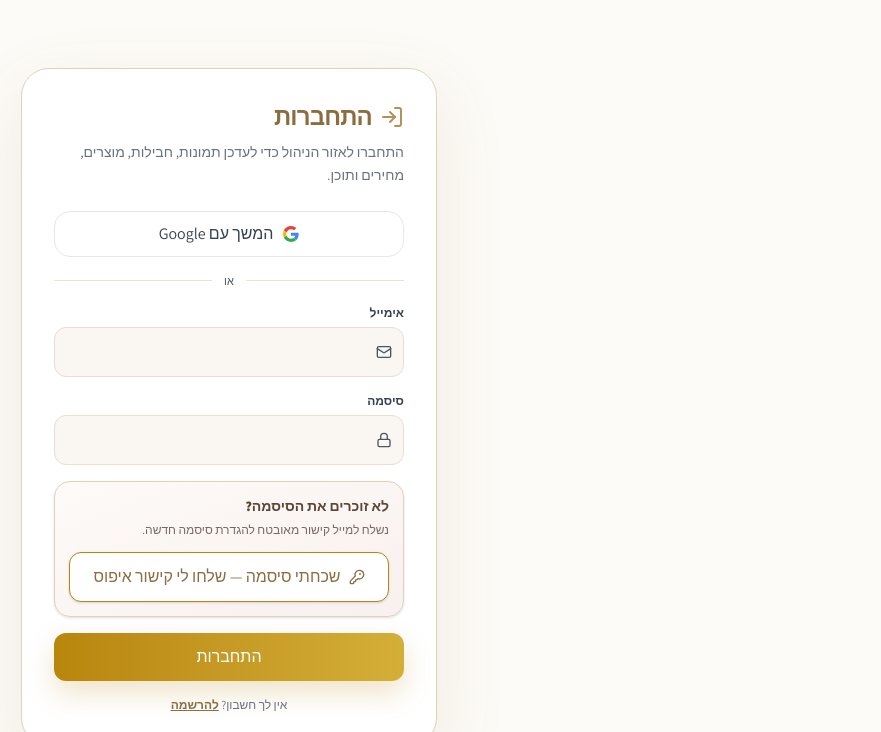
Test: LoginPage › uses a safe query return path from a direct login URL
Type "a@b.com" into the field labelled "אימייל".
click(229, 352); type("a@b.com")  # box [54,327,404,377]
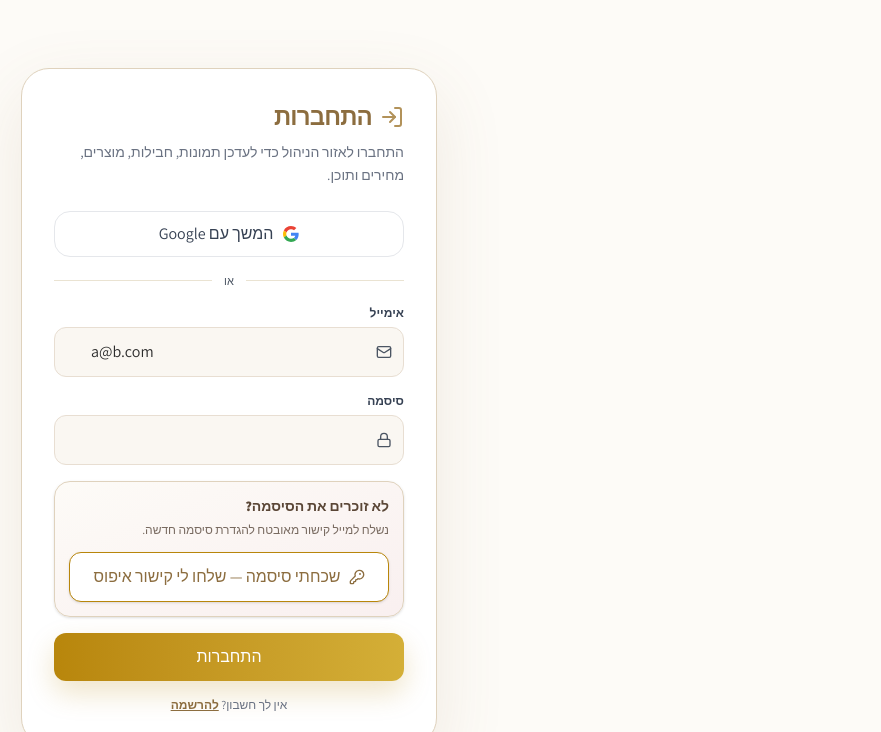
Type "secret" into the password field labelled "סיסמה".
click(229, 440); type("secret")  # box [54,415,404,465]
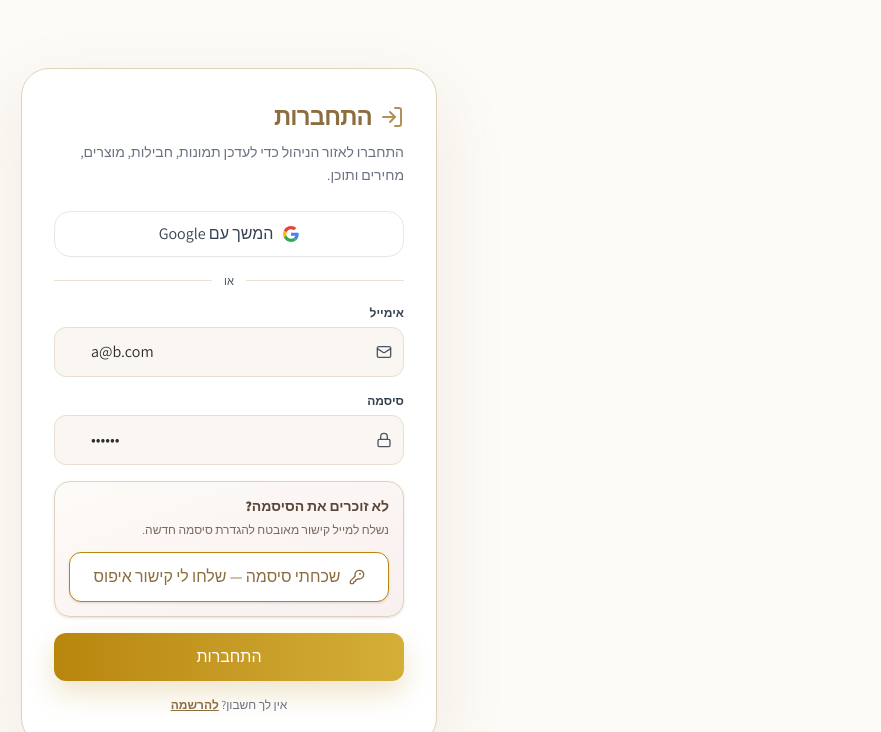
Click the button "התחברות".
click(229, 656)  # box [54,632,404,680]
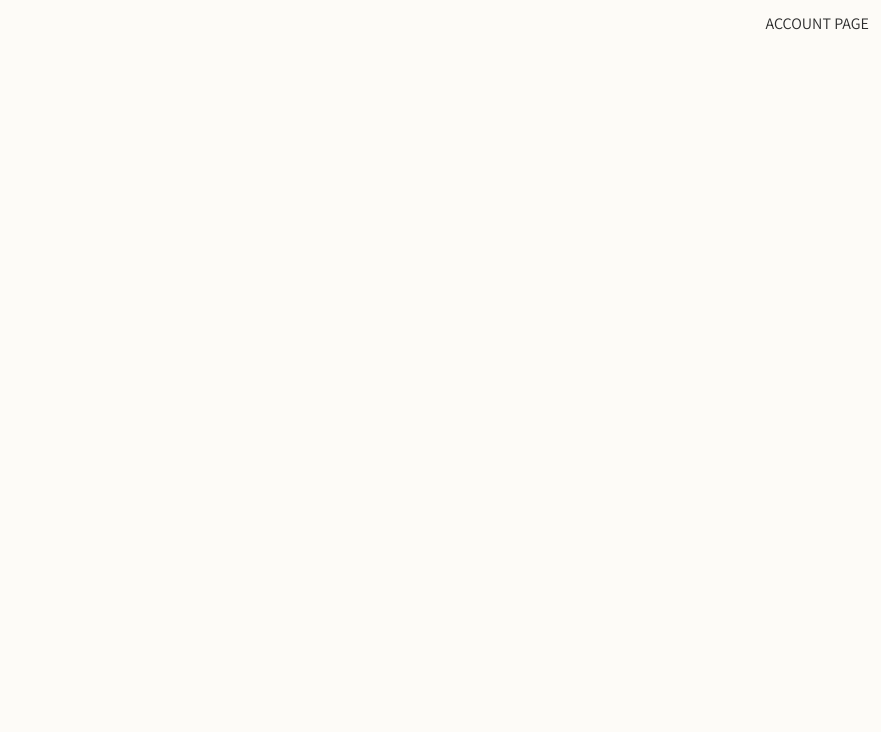
Now the text "ACCOUNT PAGE" is shown, box [765,13,869,34]
